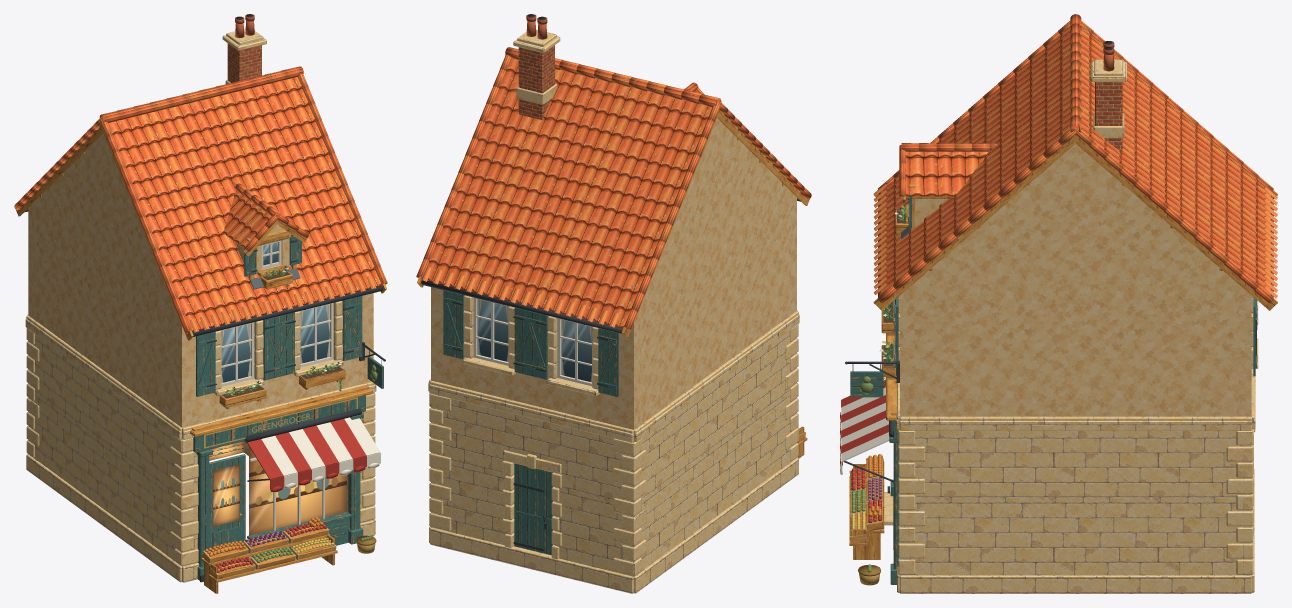
3 renders of one model, left to right at view 1: azimuth 30°, elevation 25°; view 2: azimuth 150°, elevation 25°; view 3: azimuth 270°, elevation 25°, orthographic. The views are drawn at different scales.
Visible parts, largest first — view 1: seaside_roof, seaside_plaster, seaside_stone, seaside_shutter, house_paint, shop_glass, detail_wares, seaside_timber, house_window_pane, seaside_ridge, detail_window_boxes, house_brick; view 2: seaside_stone, seaside_roof, seaside_plaster, seaside_shutter, house_paint, house_window_pane, seaside_ridge, house_brick, seaside_timber; view 3: seaside_plaster, seaside_stone, seaside_roof, seaside_timber, house_paint, detail_wares, seaside_shutter, seaside_ridge, house_brick, detail_window_boxes.
Part boxes in pixels (x1,y1,x2,y2): seaside_roof: (14, 73, 387, 333); seaside_plaster: (28, 133, 373, 427); seaside_stone: (25, 28, 376, 582); seaside_shutter: (193, 236, 383, 580); house_paint: (25, 14, 385, 582); shop_glass: (209, 441, 346, 535); detail_wares: (201, 517, 376, 593); seaside_timber: (16, 126, 386, 436); house_window_pane: (221, 242, 329, 382); seaside_ridge: (99, 66, 303, 216); detail_window_boxes: (219, 266, 345, 409); house_brick: (227, 43, 261, 82); seaside_stone: (428, 29, 799, 593); seaside_roof: (416, 55, 811, 329); seaside_plaster: (431, 118, 796, 429); seaside_shutter: (443, 290, 618, 555); house_paint: (421, 14, 800, 551); house_window_pane: (477, 299, 591, 382); seaside_ridge: (505, 47, 721, 107); house_brick: (518, 45, 554, 119); seaside_timber: (417, 110, 809, 337); seaside_plaster: (900, 144, 1251, 416); seaside_stone: (884, 59, 1258, 593); seaside_roof: (874, 21, 1277, 303); seaside_timber: (873, 135, 1277, 420); house_paint: (840, 41, 1273, 493); detail_wares: (849, 454, 884, 585); seaside_shutter: (850, 196, 1256, 584); seaside_ridge: (901, 14, 1081, 151); house_brick: (1095, 82, 1122, 154); detail_window_boxes: (879, 205, 908, 388).
Size of the model in its own units: 4.84 by 10.57 by 7.96.
Materials: 10 (10 with a texture image).
